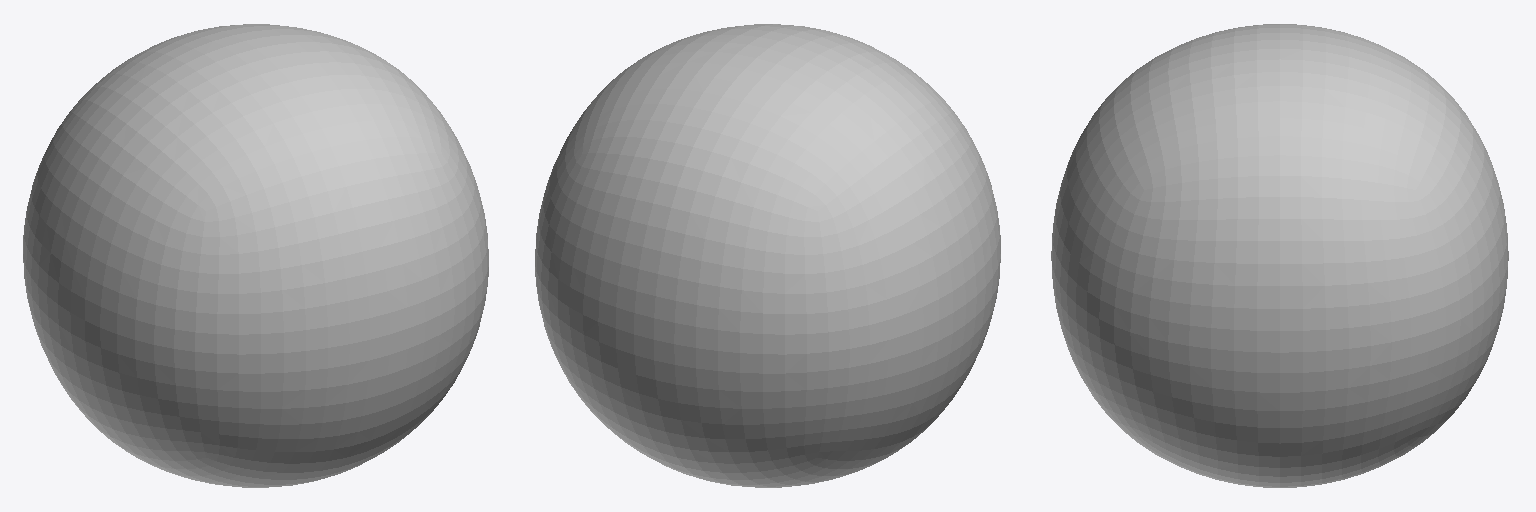
The model's file is Moon.obj.
3 renders of one model, left to right at view 1: azimuth 30°, elevation 25°; view 2: azimuth 150°, elevation 25°; view 3: azimuth 270°, elevation 25°, orthographic.
Visible parts, largest first — view 1: moon; view 2: moon; view 3: moon.
Part boxes in pixels (x1,y1,x2,y2): moon: (23, 24, 488, 487); moon: (535, 24, 1000, 487); moon: (1051, 24, 1508, 487).
Size of the model in its own units: 19.67 by 19.67 by 19.67.